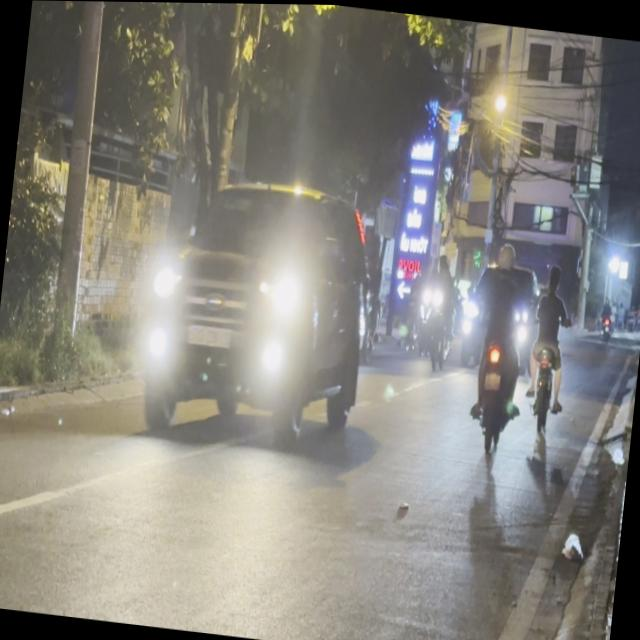helmet: (493, 238, 517, 277)
licenseplate: (458, 233, 538, 461)
nohelmet: (483, 371, 501, 390)
